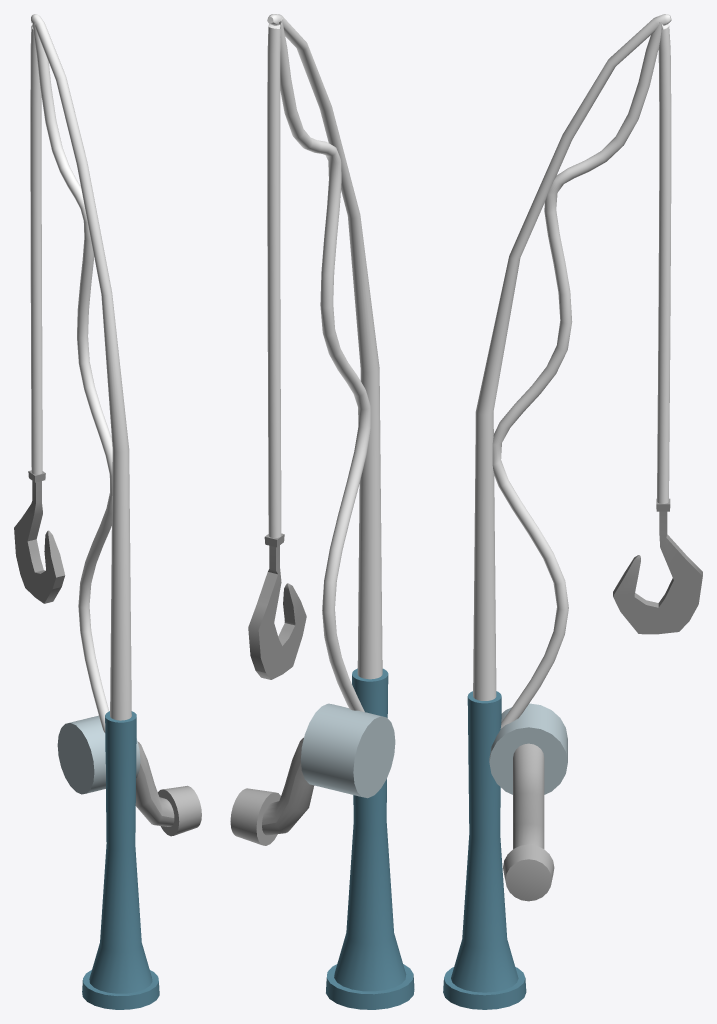
The model's file is Fishing Pole.fbx.
3 views of the same model, side by side, from view 1: azimuth 30°, elevation 25°; view 2: azimuth 150°, elevation 25°; view 3: azimuth 270°, elevation 25° (orthographic). The views are drawn at different scales.
Parts seen in each view (by area): view 1: pCylinder14; view 2: pCylinder14; view 3: pCylinder14.
Part boxes in pixels (left/top/right/bottom): pCylinder14: left=14, top=14, right=201, bottom=1009; pCylinder14: left=230, top=14, right=414, bottom=1009; pCylinder14: left=443, top=14, right=702, bottom=1009.
Size of the model in its own units: 24.27 by 167 by 40.22.
